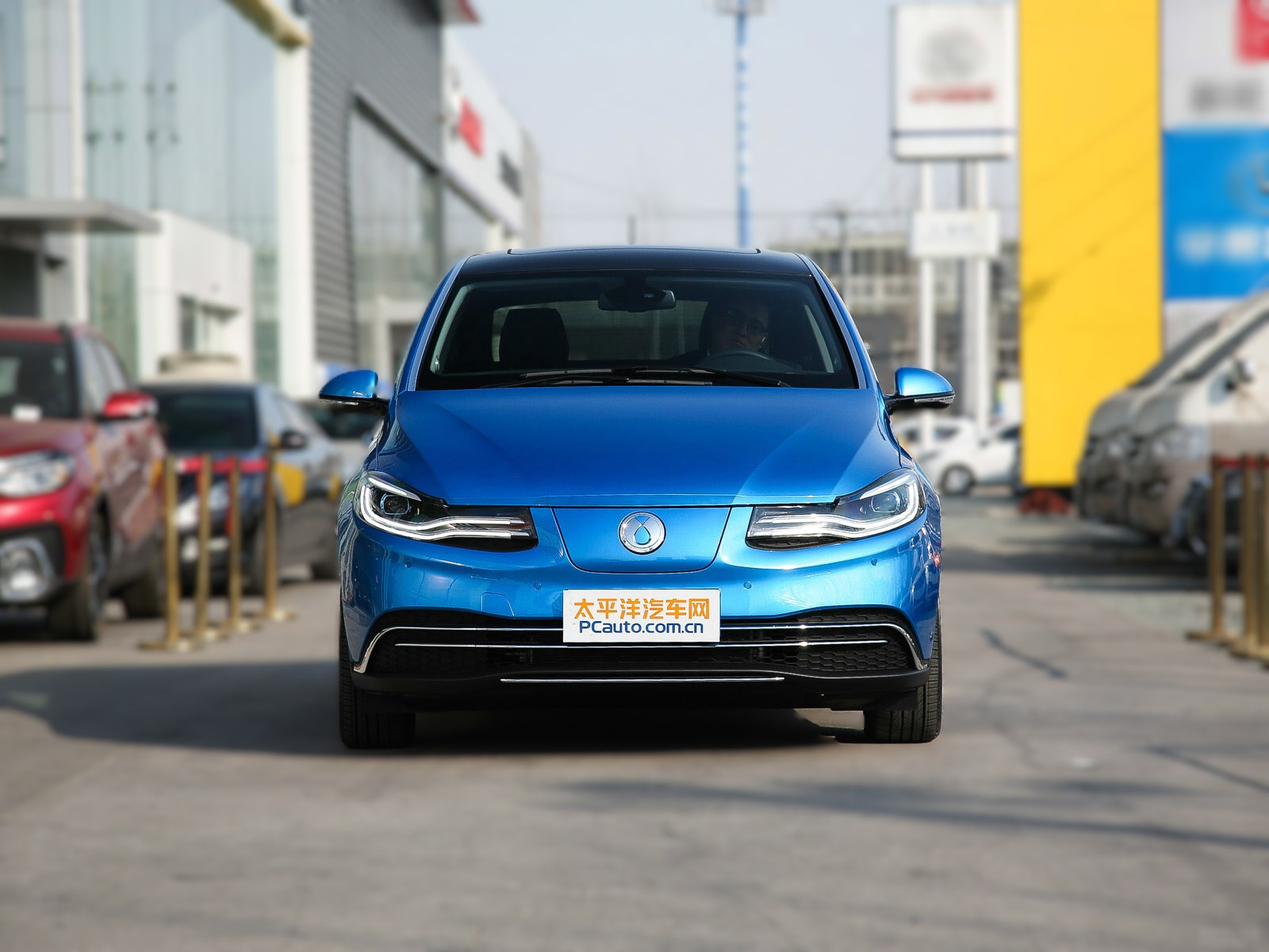DENZA: (620, 512, 664, 552)
